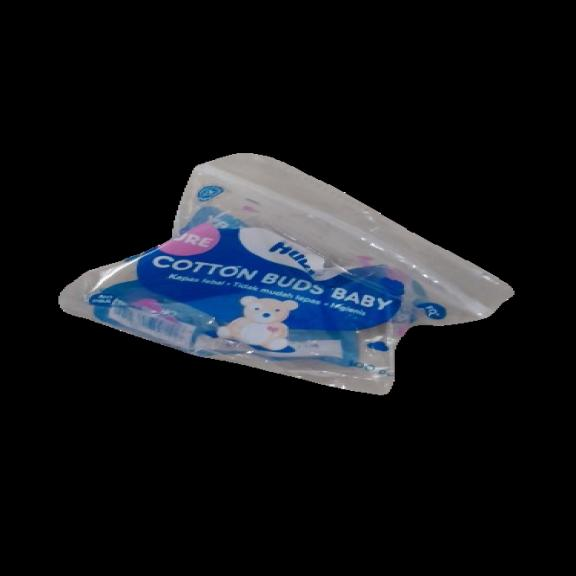Plastik: (52, 139, 527, 400)
